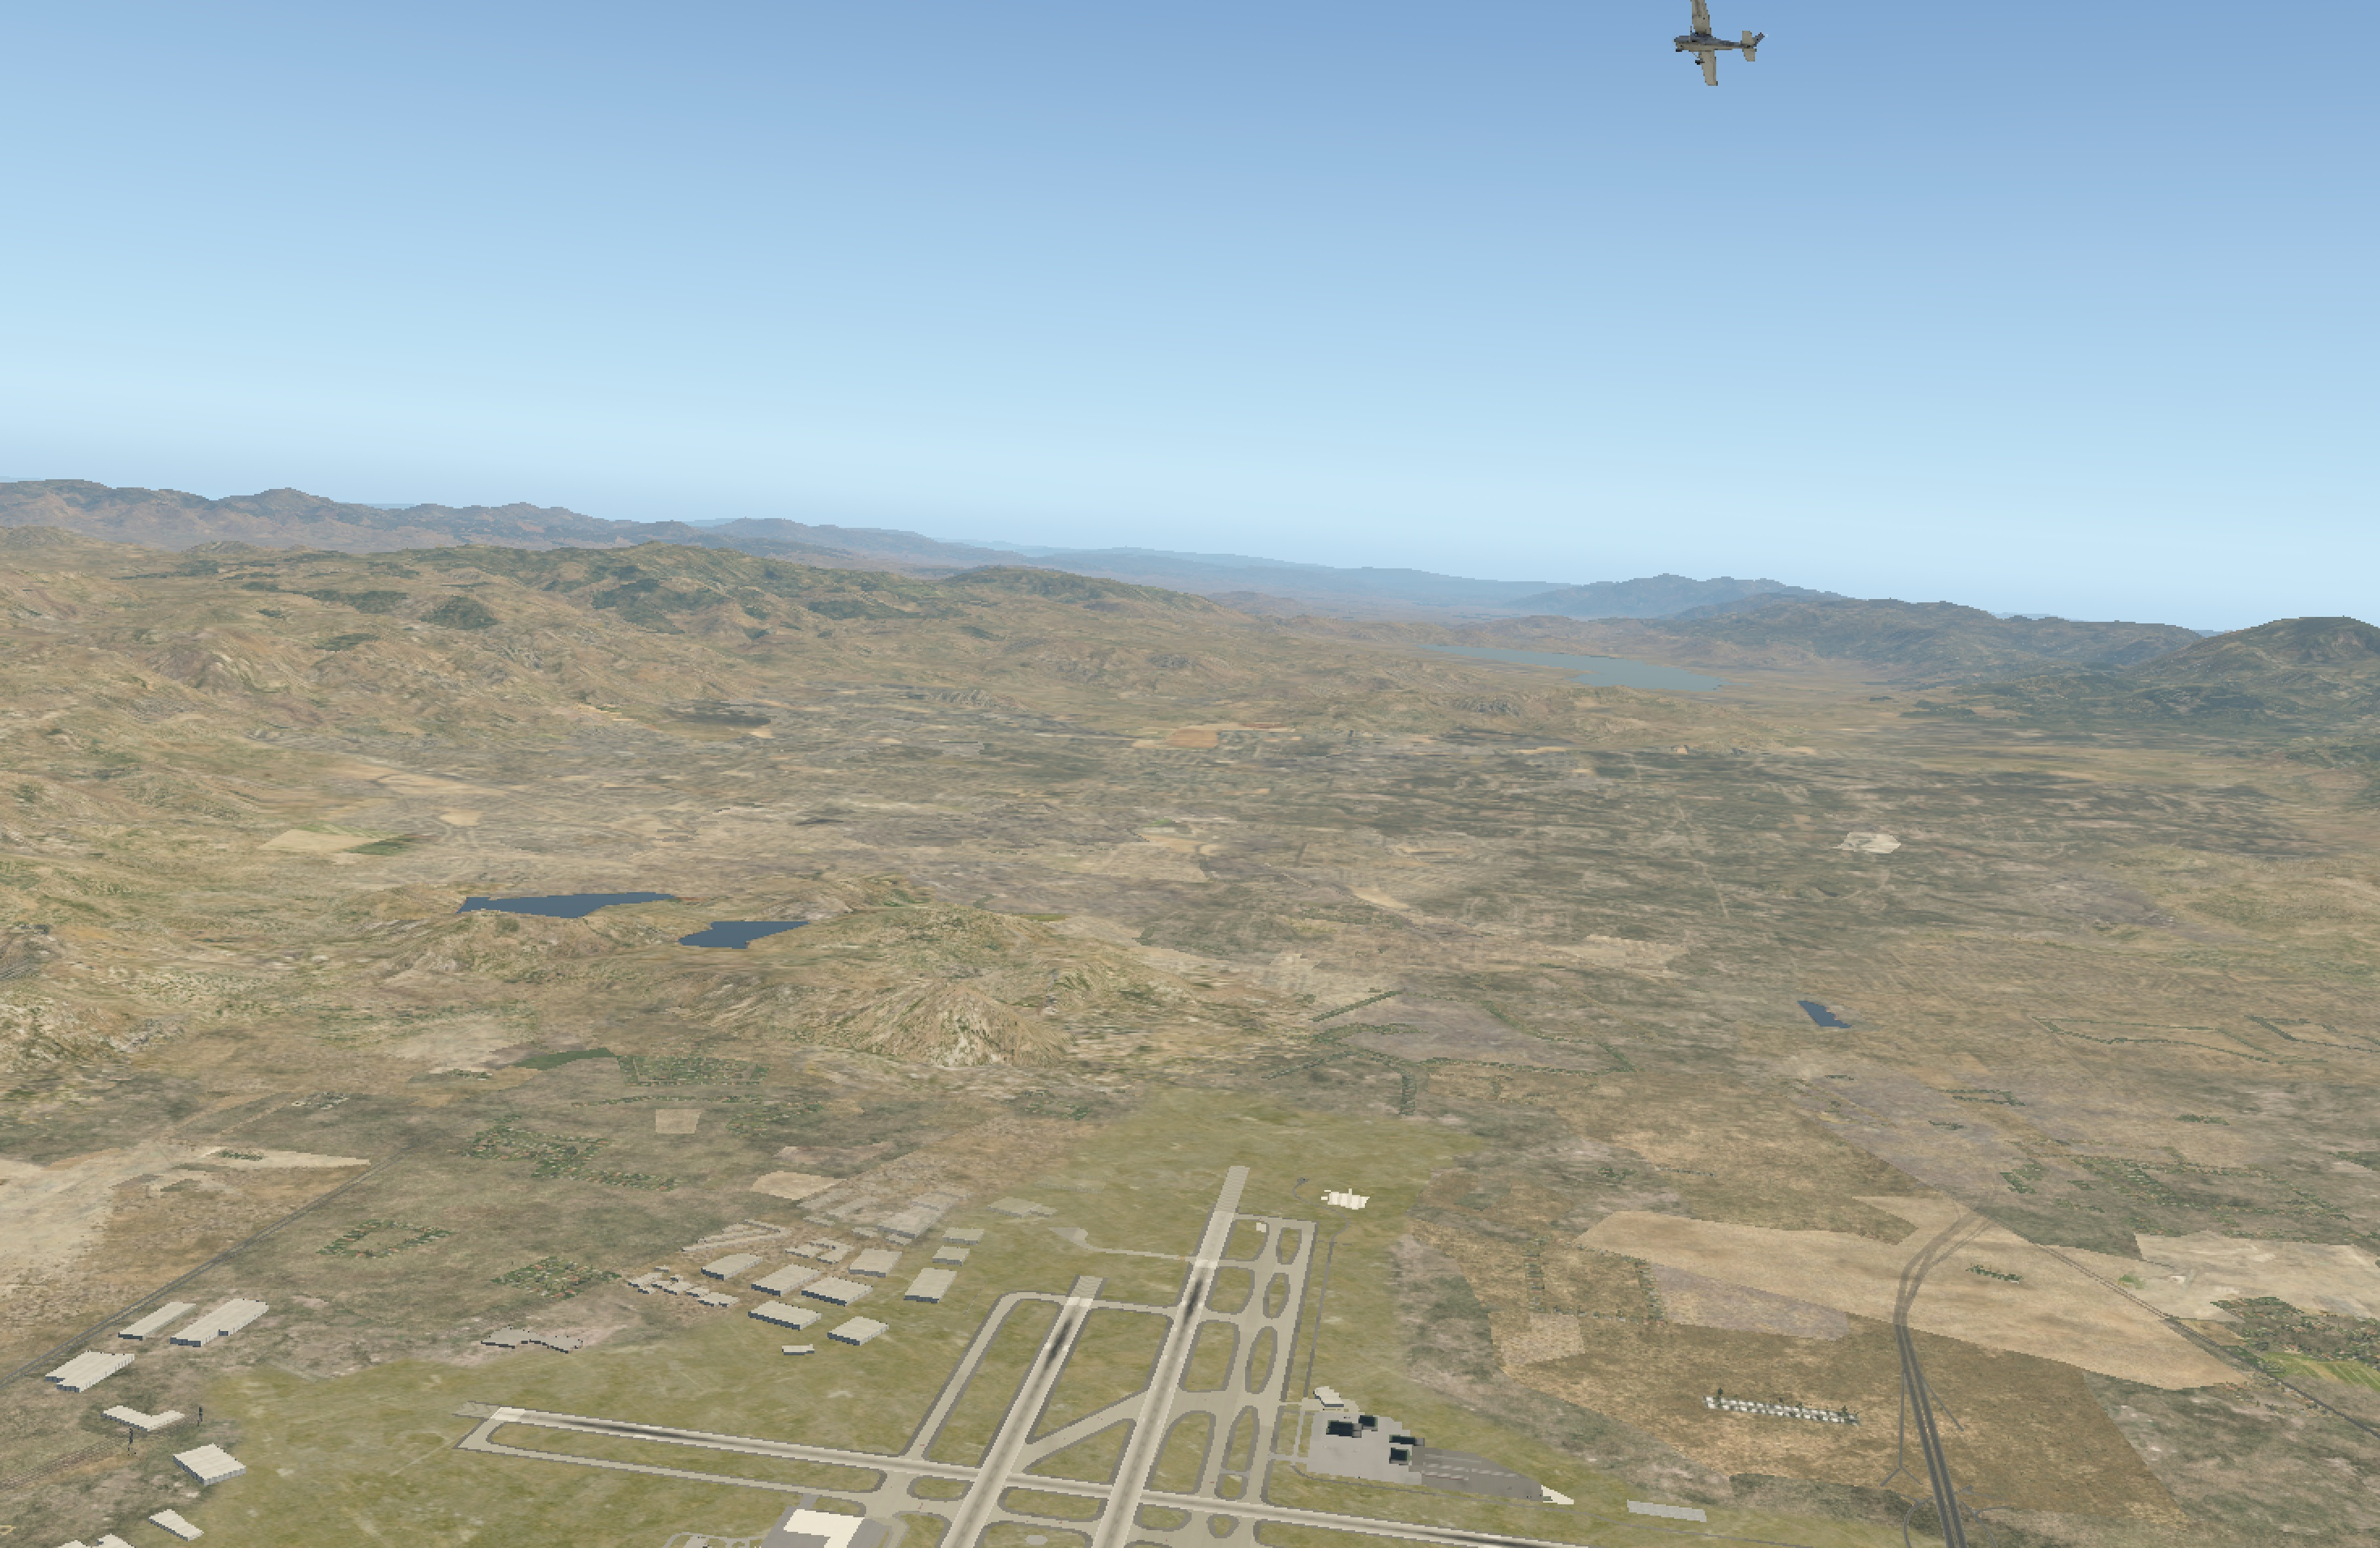aircraft: (1657, 26, 1738, 57)
